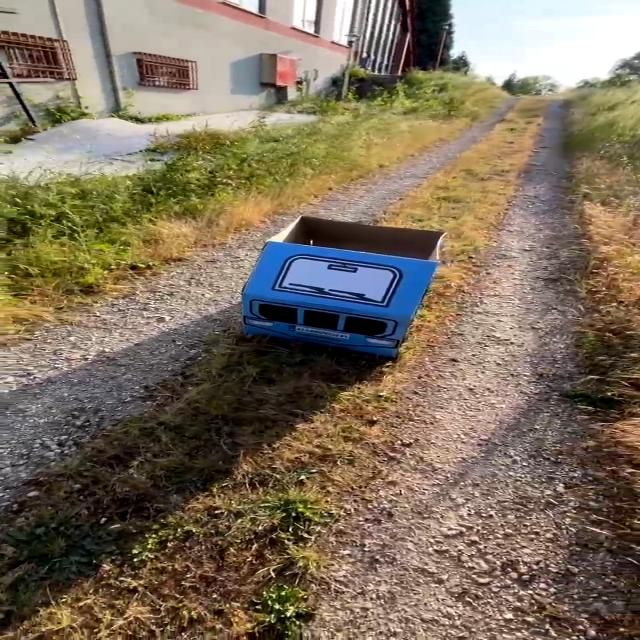blue_car: (210, 205, 452, 369)
